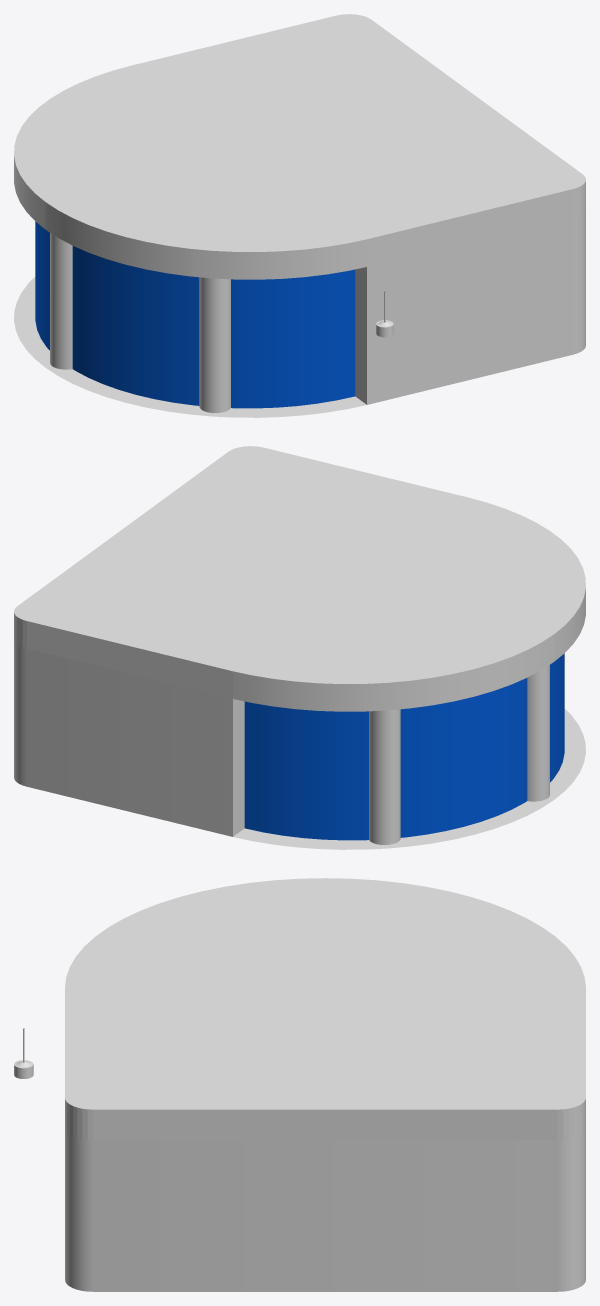
File: The_Room.fbx
3 views of the same model, one above another, from view 1: azimuth 30°, elevation 25°; view 2: azimuth 150°, elevation 25°; view 3: azimuth 270°, elevation 25° (orthographic). The views are drawn at different scales.
Parts seen in each view (by area): view 1: w-telhado, w-externo, Vidro-Interior, m-Pilar, Vidro-Borda, w-Parede-Interna; view 2: w-telhado, w-externo, Vidro-Interior, m-Pilar, Vidro-Borda, w-Parede-Interna; view 3: w-telhado, w-externo.
Part boxes in pixels (<box>): w-telhado: <box>14,14,585,279</box>; w-externo: <box>14,208,585,417</box>; Vidro-Interior: <box>35,221,353,406</box>; m-Pilar: <box>50,233,230,412</box>; Vidro-Borda: <box>35,246,355,408</box>; w-Parede-Interna: <box>355,267,366,404</box>; w-telhado: <box>14,446,585,711</box>; w-externo: <box>14,640,585,849</box>; Vidro-Interior: <box>246,653,564,838</box>; m-Pilar: <box>369,665,549,844</box>; Vidro-Borda: <box>244,678,564,840</box>; w-Parede-Interna: <box>233,699,244,836</box>; w-telhado: <box>65,878,585,1139</box>; w-externo: <box>65,1129,585,1291</box>.
Bounding box in the file's own units: 1634 × 601 × 1707.
